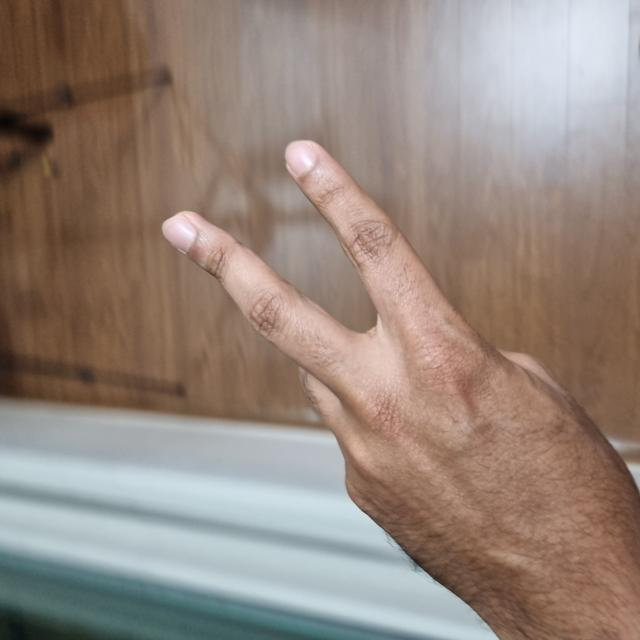Scissors: (1, 164, 502, 638)
